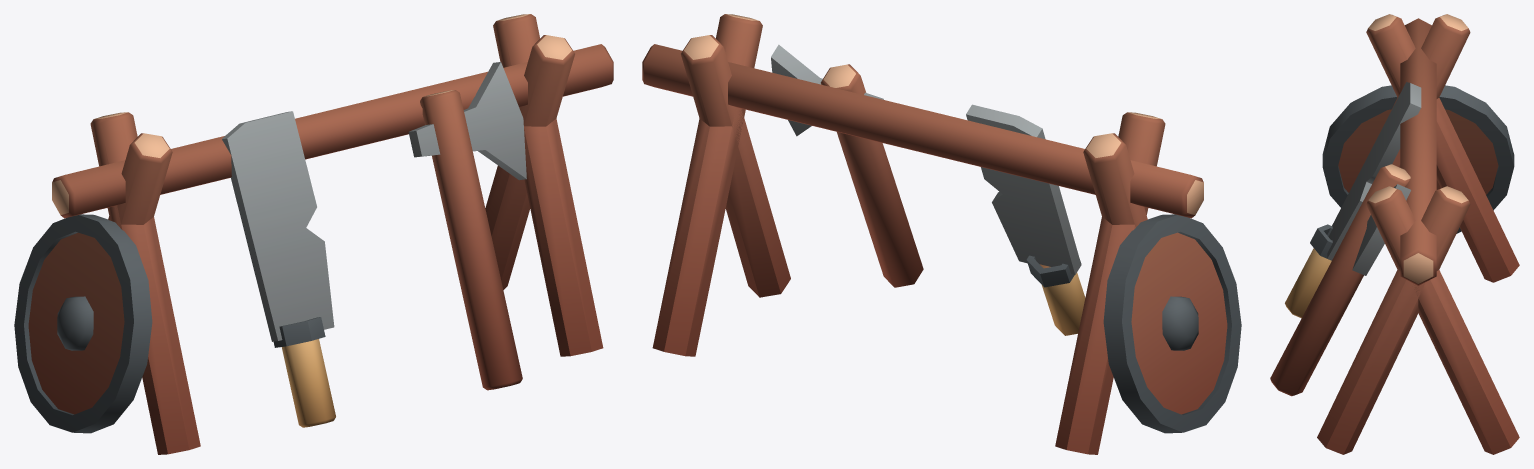
Rendered from rack_weapons.fbx.
3 views of the same model, side by side, from view 1: azimuth 30°, elevation 25°; view 2: azimuth 150°, elevation 25°; view 3: azimuth 270°, elevation 25° (orthographic). The views are drawn at different scales.
Visible parts, largest first — view 1: rack_weapons; view 2: rack_weapons; view 3: rack_weapons.
Boxes of the visible parts, box(x1,y1,x2,y2) form: rack_weapons: box(14, 14, 613, 454); rack_weapons: box(642, 14, 1241, 454); rack_weapons: box(1270, 14, 1519, 454).
Bounding box in the file's own units: 0.9383 × 0.4832 × 0.4168.
Materials: 1 (1 with a texture image).
